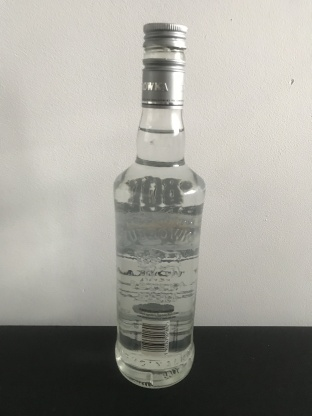nakretka: (139, 18, 189, 110)
